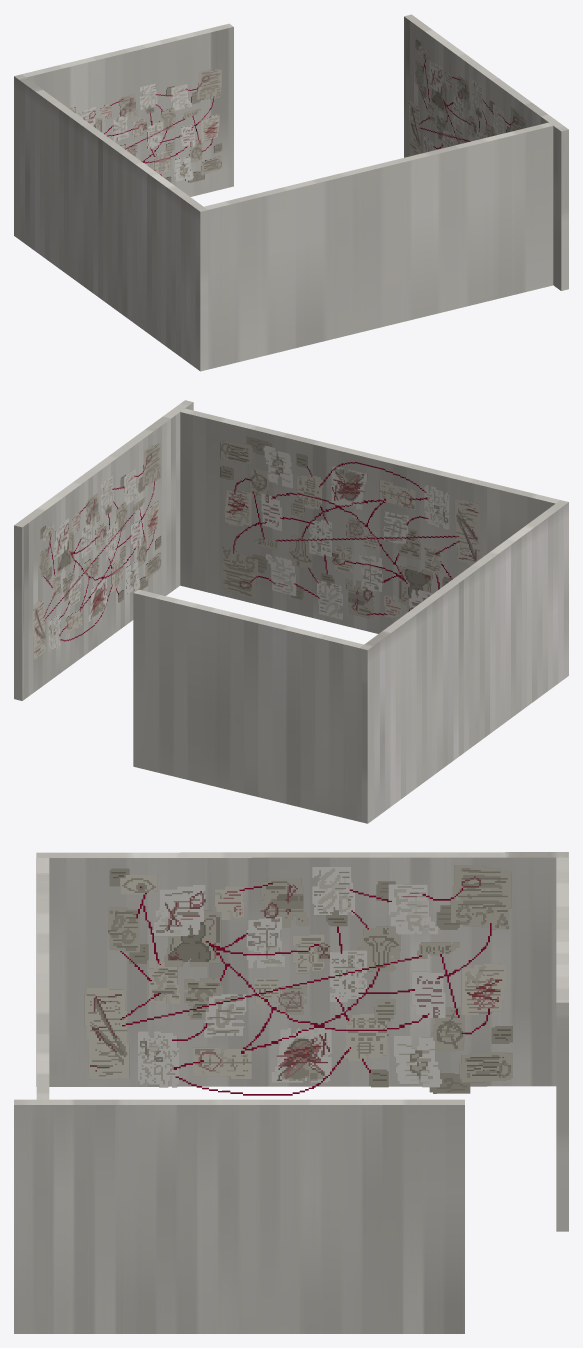
The model's file is testing wall.fbx.
The picture shows the model from 3 angles, top to bottom: view 1: azimuth 30°, elevation 25°; view 2: azimuth 150°, elevation 25°; view 3: azimuth 270°, elevation 25°; orthographic projection. The views are drawn at different scales.
Visible parts, largest first — view 1: Cube.025, Cube.007, Cube.024, Cube.008, 462558675_1278448043154058_3585354190626562852_n.003, 462558675_1278448043154058_3585354190626562852_n; view 2: Cube.024, Cube.007, Cube.025, 462558675_1278448043154058_3585354190626562852_n.001, Cube.008, 462558675_1278448043154058_3585354190626562852_n; view 3: Cube.008, Cube.007, 462558675_1278448043154058_3585354190626562852_n.002, Cube.024, Cube.025.
Boxes of the visible parts, x1,y1,x2,y2 form: Cube.025: (204, 122, 553, 369); Cube.007: (14, 74, 208, 371); Cube.024: (22, 23, 233, 196); Cube.008: (404, 14, 568, 290); 462558675_1278448043154058_3585354190626562852_n.003: (69, 69, 222, 182); 462558675_1278448043154058_3585354190626562852_n: (409, 39, 526, 154); Cube.024: (133, 589, 363, 822); Cube.007: (360, 500, 568, 823); Cube.025: (180, 408, 559, 633); 462558675_1278448043154058_3585354190626562852_n.001: (220, 436, 481, 619); Cube.008: (14, 400, 193, 700); 462558675_1278448043154058_3585354190626562852_n: (32, 443, 161, 659); Cube.008: (14, 1099, 464, 1333); Cube.007: (36, 852, 568, 1086); 462558675_1278448043154058_3585354190626562852_n.002: (84, 865, 512, 1095); Cube.024: (556, 856, 568, 1231); Cube.025: (36, 858, 49, 1099).
Bounding box in the file's own units: 1016 × 453 × 943.
Materials: 10 (10 with a texture image).
